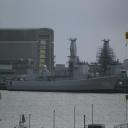Fragata: (7, 38, 120, 95)
